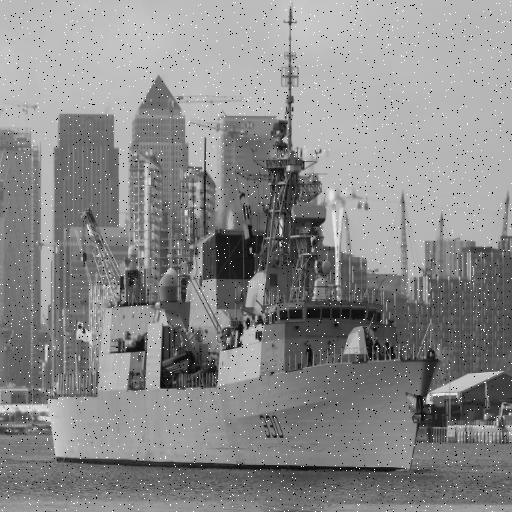Fragata: (44, 1, 450, 476)
